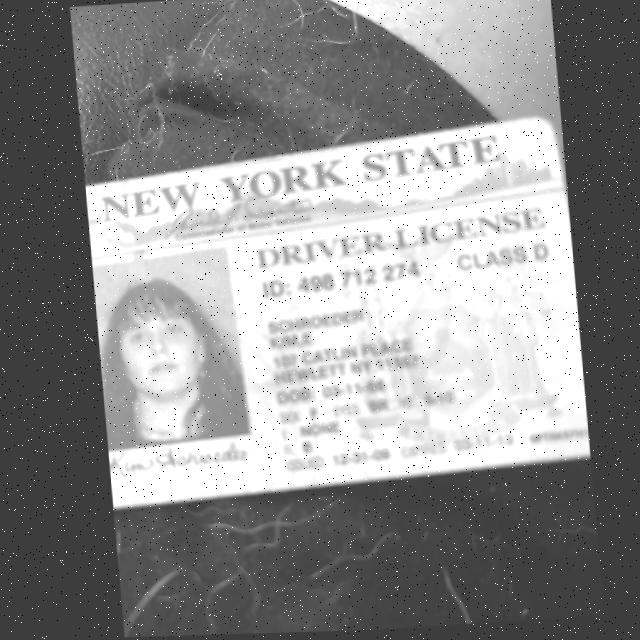card: (85, 115, 590, 508)
